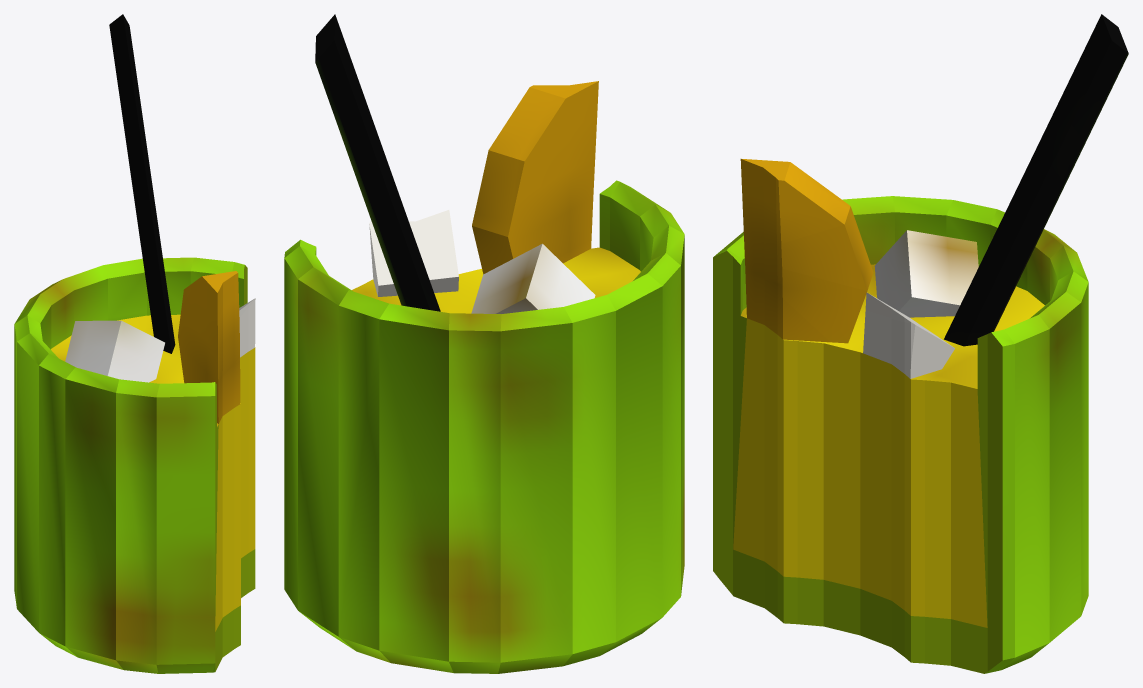
File: bebida.fbx
The picture shows the model from 3 angles, left to right: view 1: azimuth 30°, elevation 25°; view 2: azimuth 150°, elevation 25°; view 3: azimuth 270°, elevation 25°; orthographic projection. The views are drawn at different scales.
Visible parts, largest first — view 1: CoockieMan.002; view 2: CoockieMan.002; view 3: CoockieMan.002.
Boxes of the visible parts, x1,y1,x2,y2 form: CoockieMan.002: (14,14,255,673); CoockieMan.002: (284,14,684,673); CoockieMan.002: (713,14,1128,673).
Size of the model in its own units: 86.59 by 170 by 103.
1 material, 1 textured.
